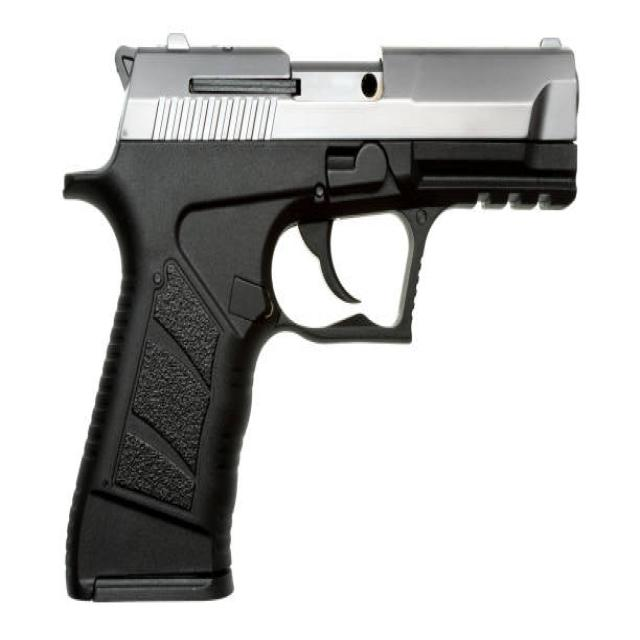pistol: (53, 17, 586, 621)
